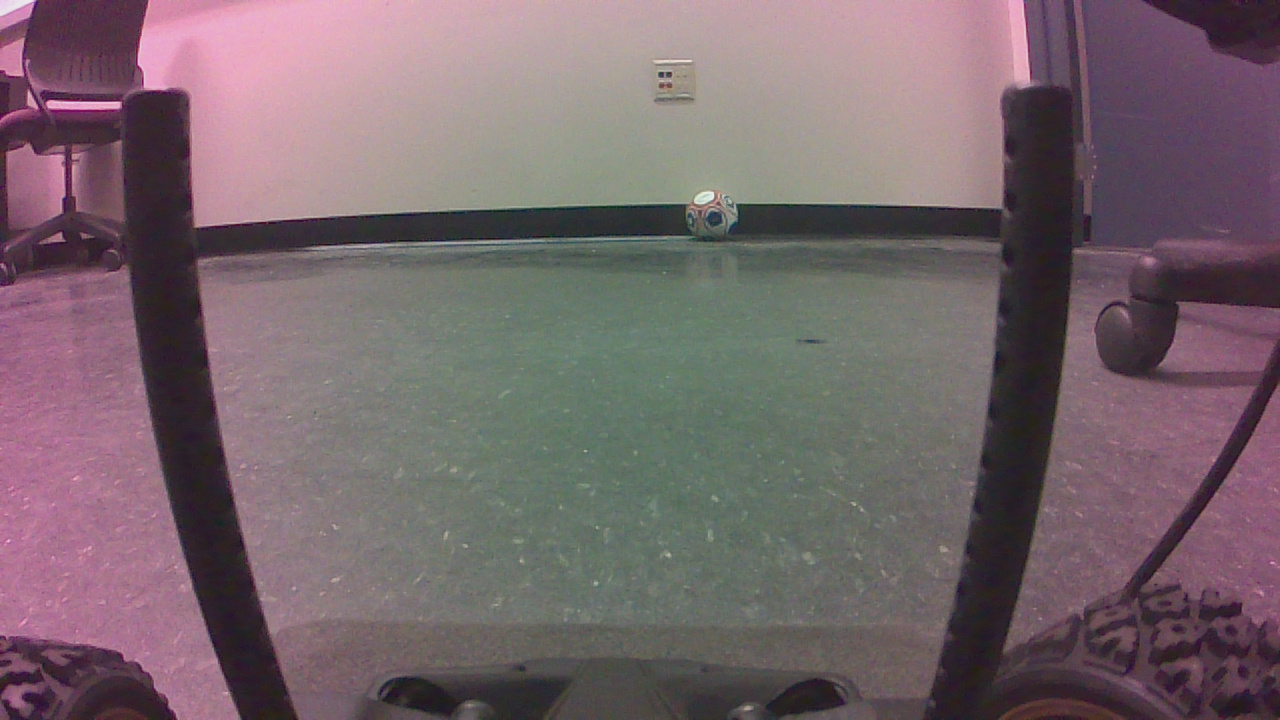ball: (690, 195, 744, 247)
